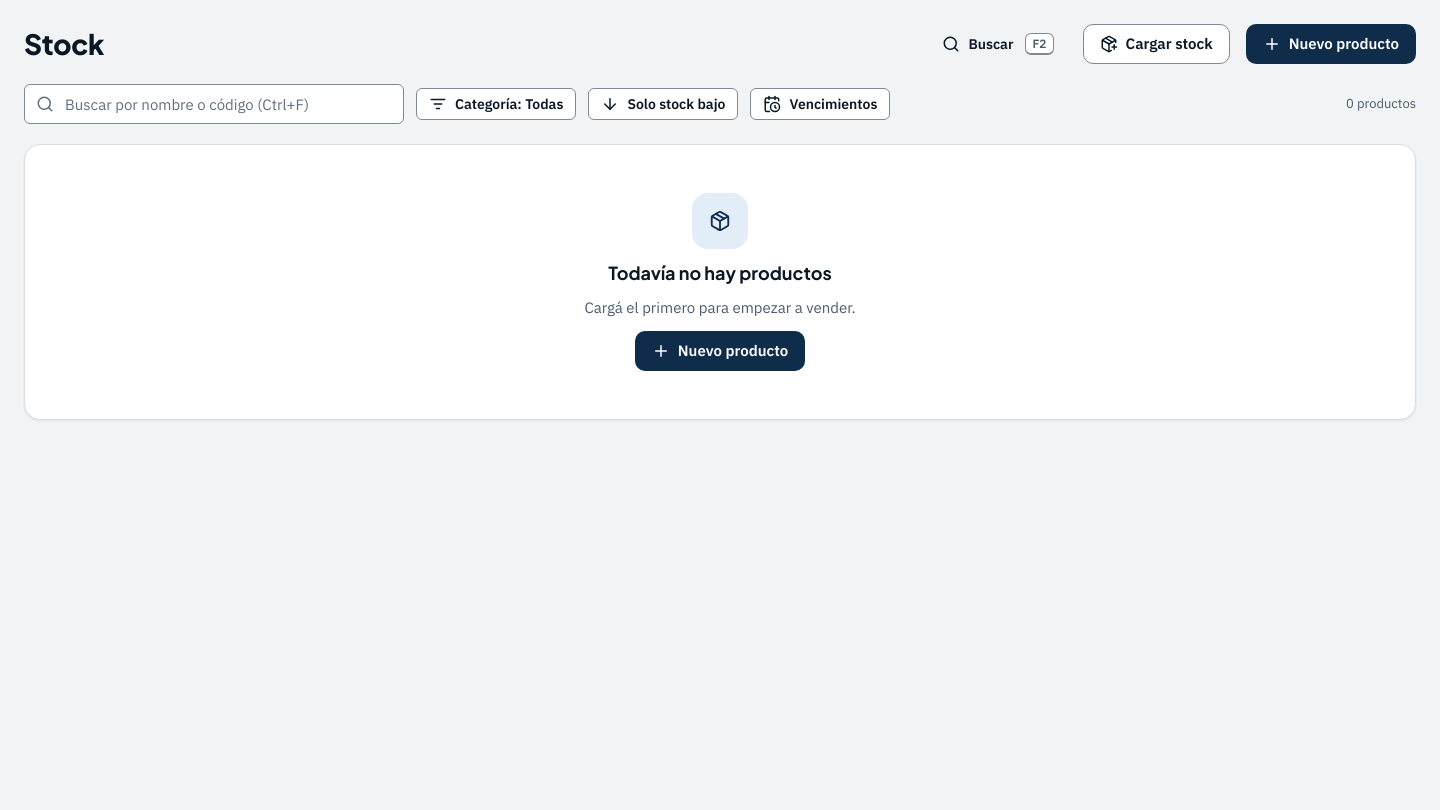
StockProducts — carga y estados › base vacía: "Todavía no hay productos" con el botón para crear
This screenshot has width=1440, height=810.
Expected: the heading "Todavía no hay productos" is shown, [608,261,832,285]
Click the button "Nuevo producto" below "Cargá el primero para empezar a vender.": (720, 351) [635,331,805,371]
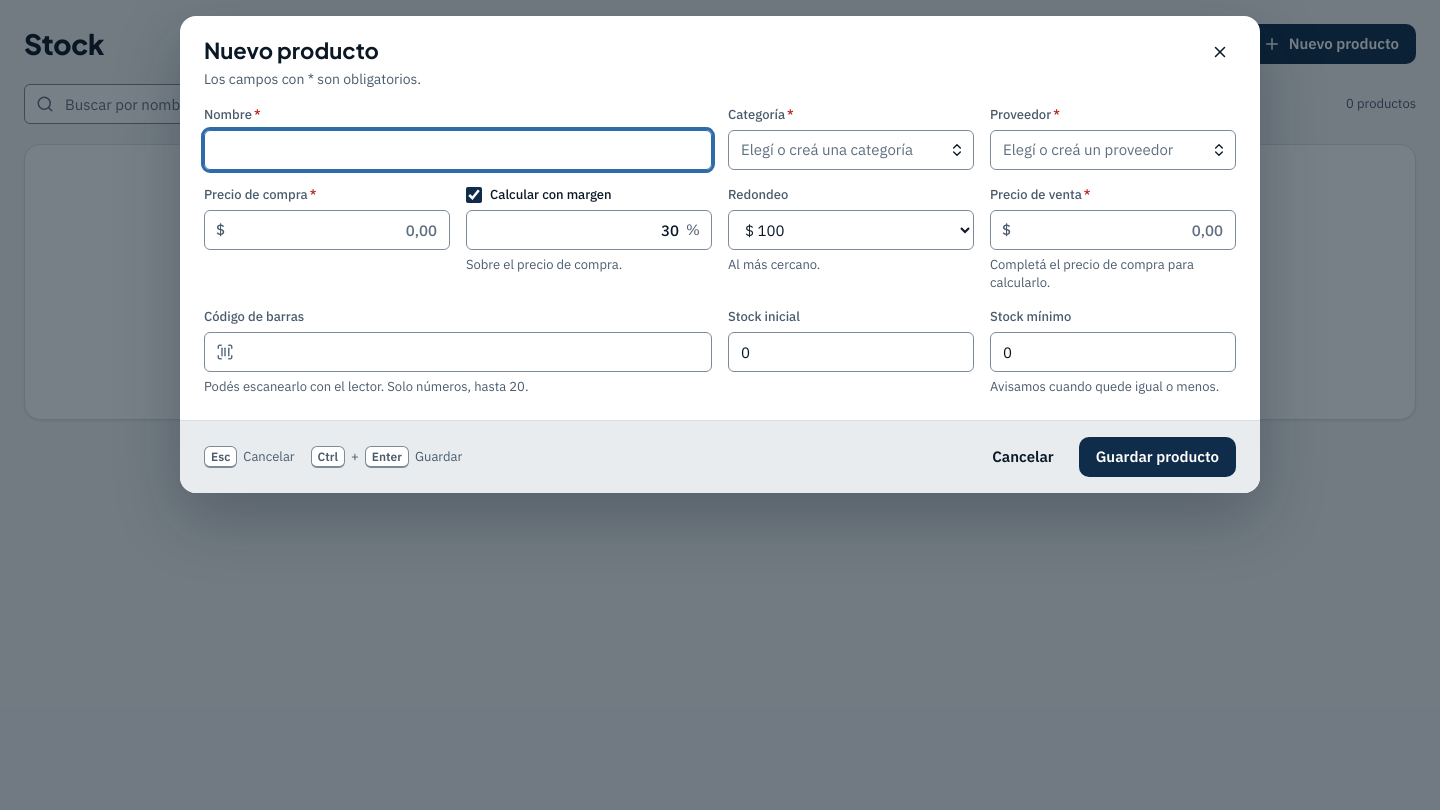
Now the dialog "Nuevo producto" is shown, box [180,16,1260,493]
